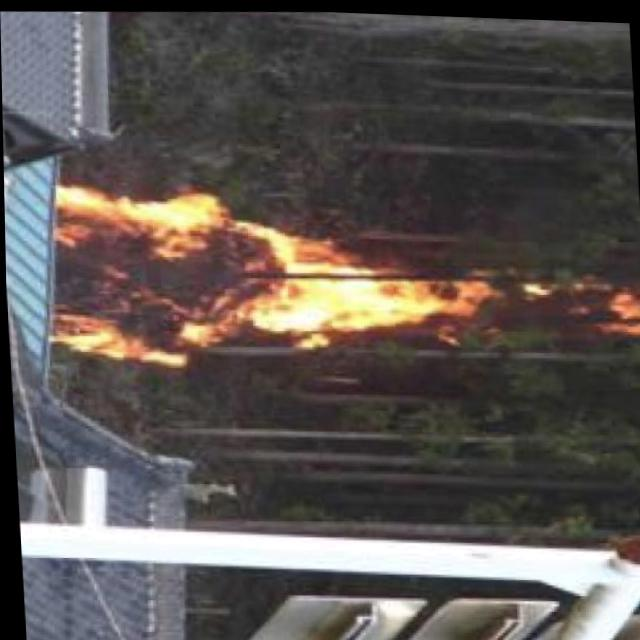fire: (41, 173, 479, 383), (567, 264, 640, 343)
